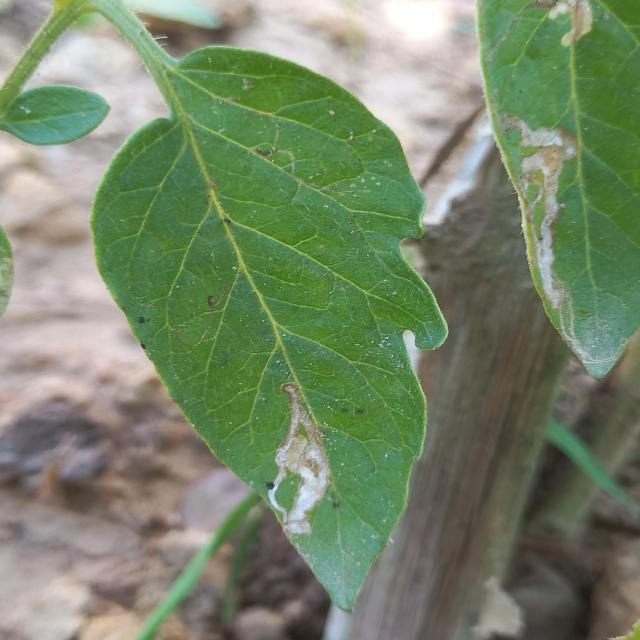Tuta absoluta: (499, 95, 603, 227), (263, 381, 342, 538), (544, 0, 603, 49), (533, 228, 565, 308)
